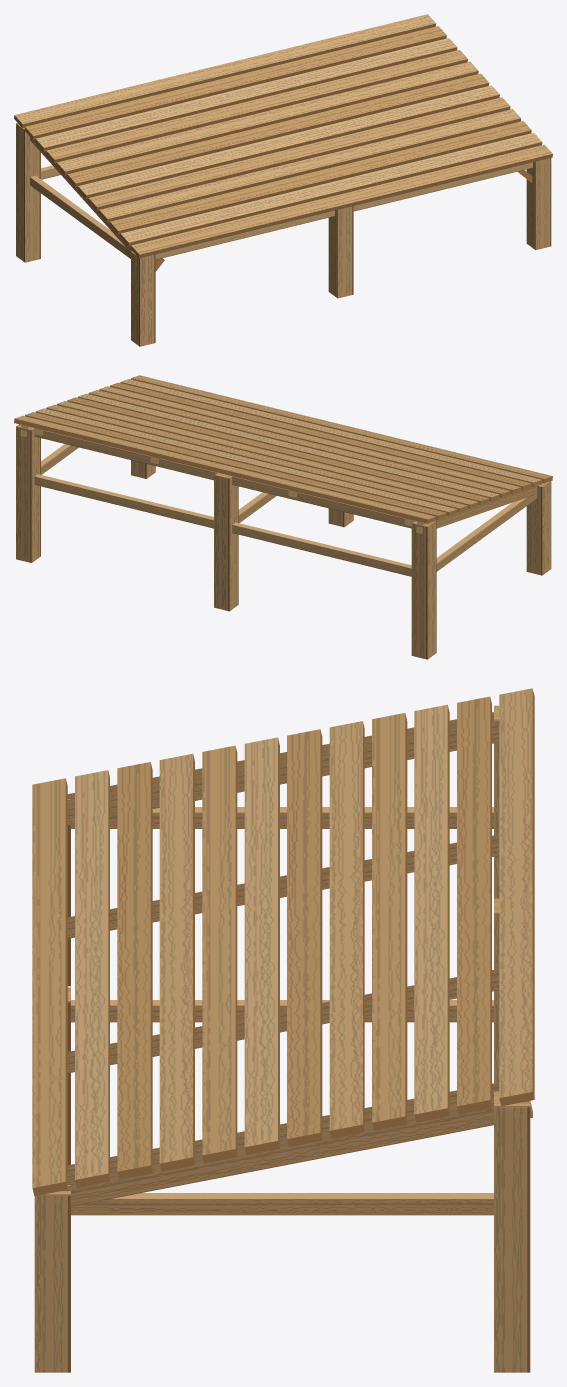
Rendered from Prop_ProduceTable_TiltL.fbx.
3 renders of one model, top to bottom at view 1: azimuth 30°, elevation 25°; view 2: azimuth 150°, elevation 25°; view 3: azimuth 270°, elevation 25°, orthographic. The views are drawn at different scales.
Visible parts, largest first — view 1: Prop_ProduceTable_TiltL; view 2: Prop_ProduceTable_TiltL; view 3: Prop_ProduceTable_TiltL.
Boxes of the visible parts, bbox=[...] form: Prop_ProduceTable_TiltL: bbox=[14, 14, 552, 346]; Prop_ProduceTable_TiltL: bbox=[14, 375, 552, 659]; Prop_ProduceTable_TiltL: bbox=[32, 688, 534, 1372].
Bounding box in the file's own units: 4.2 × 1.37 × 2.21.
1 material, 1 textured.
